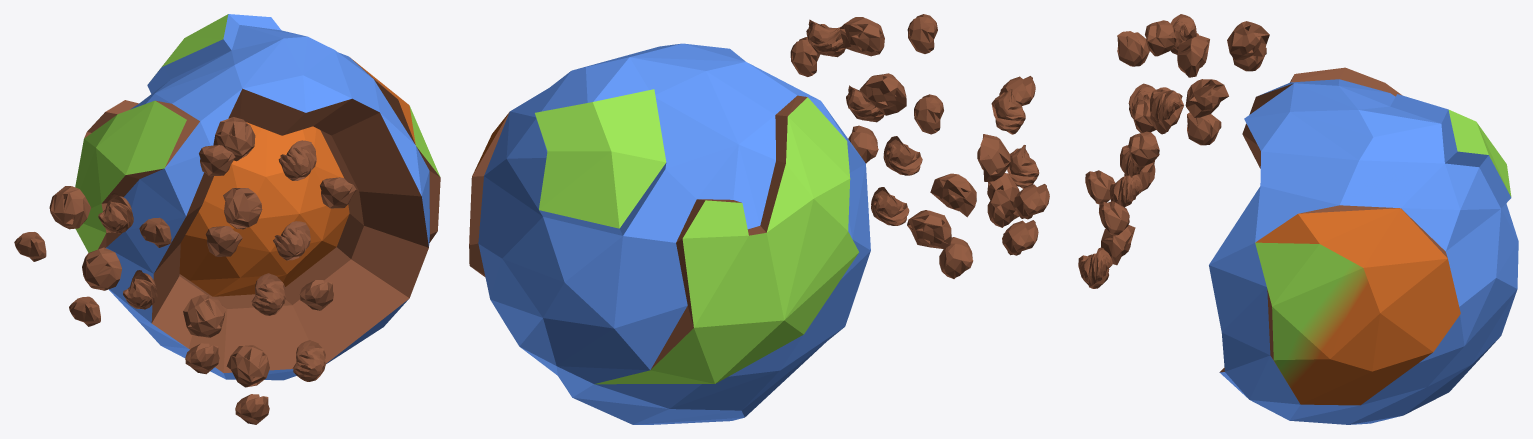
The model's file is PlanetDestroid.fbx.
The picture shows the model from 3 angles, left to right: view 1: azimuth 30°, elevation 25°; view 2: azimuth 150°, elevation 25°; view 3: azimuth 270°, elevation 25°; orthographic projection. The views are drawn at different scales.
Visible parts, largest first — view 1: PlanetDestroid; view 2: PlanetDestroid; view 3: PlanetDestroid.
Boxes of the visible parts, left/top/right/bottom form: PlanetDestroid: left=14, top=14, right=440, bottom=424; PlanetDestroid: left=469, top=14, right=1049, bottom=424; PlanetDestroid: left=1078, top=14, right=1518, bottom=424.
Size of the model in its own units: 29.2 by 19.85 by 24.33.
